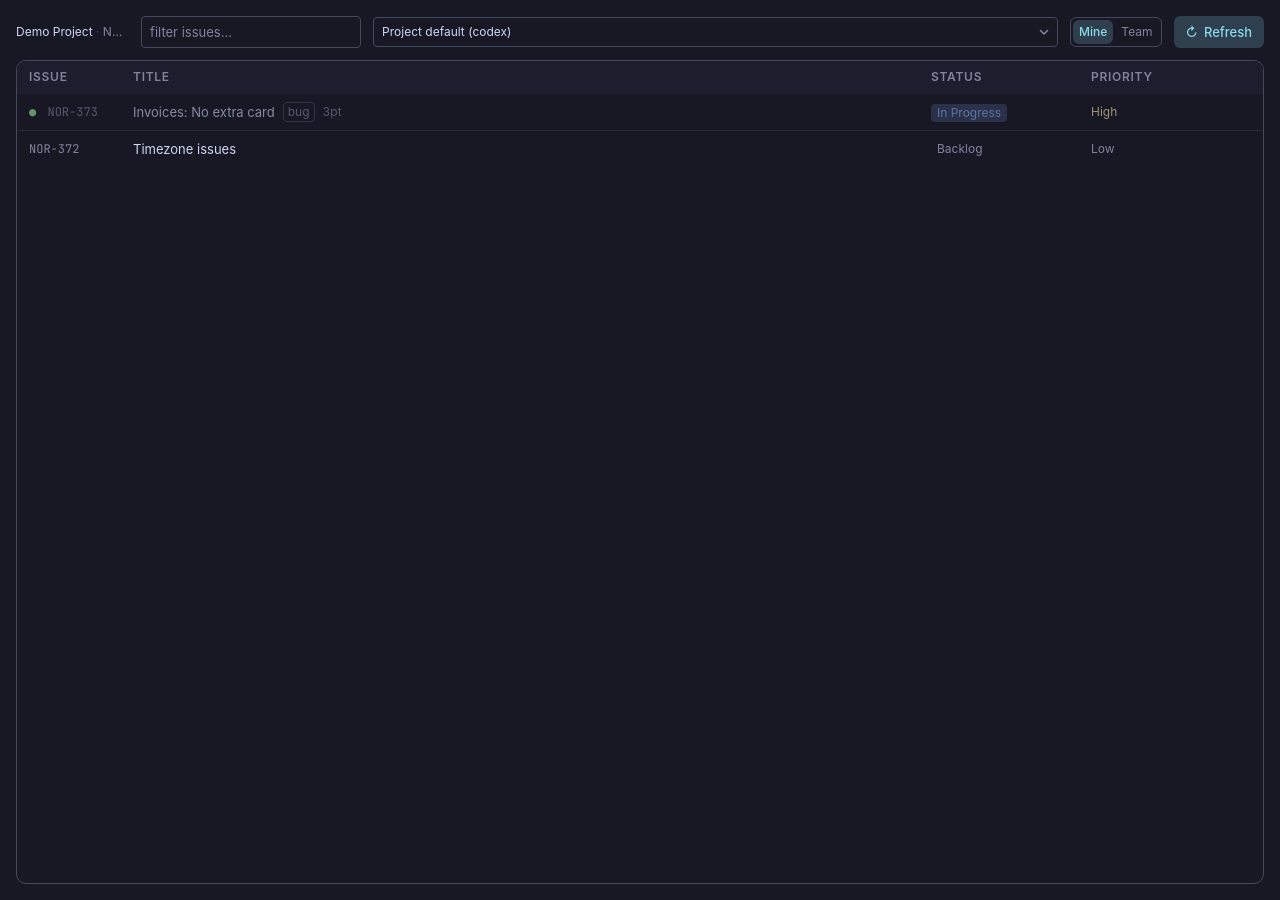
TicketPicker › filters over state, labels and assignee, not just the title
Step 1. Type "backlog" into the field labelled "filter issues" → (251, 32), box [141, 16, 361, 48]
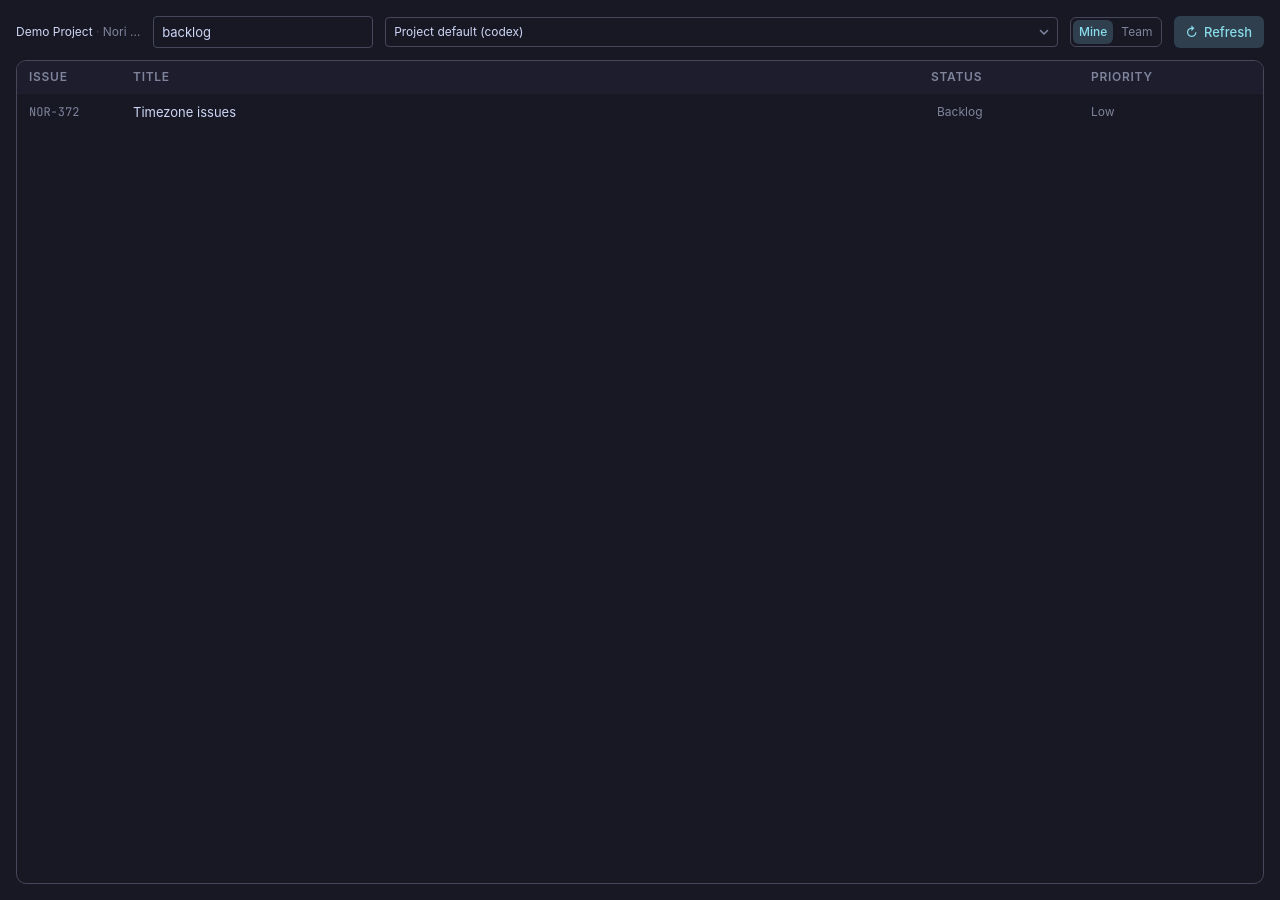
Expected: the text "Timezone issues" is shown, [133, 102, 236, 120]
Now the text "Invoices: No extra card" is gone
Step 2. Replace the text in the field named "filter issues" with "ada" → (263, 32), box [153, 16, 373, 48]
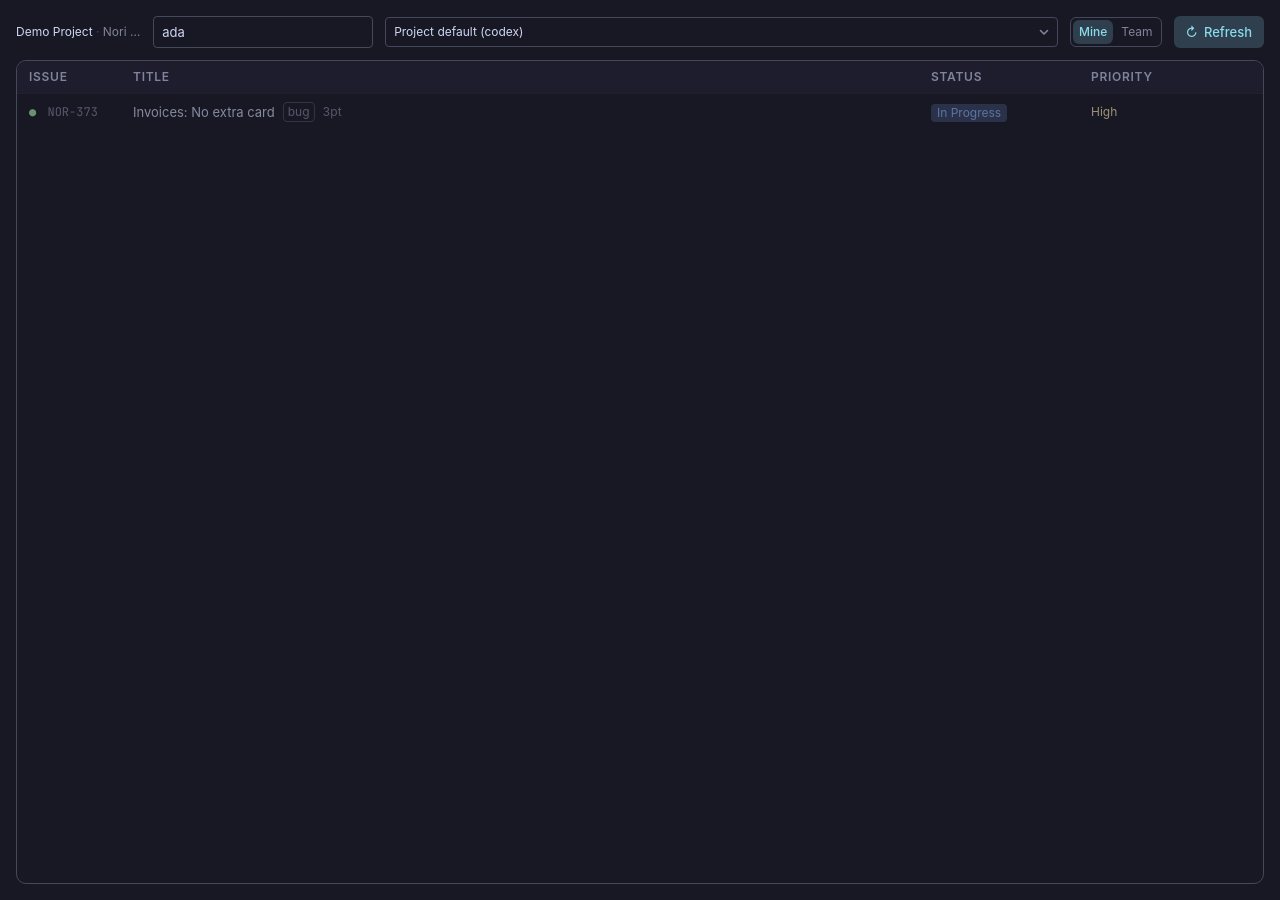
Now the text "Invoices: No extra card" is shown, box [133, 103, 275, 121]
Now the text "Timezone issues" is gone
Step 3. Replace the text in the field named "filter issues" with "nothing here" → (263, 32), box [153, 16, 373, 48]
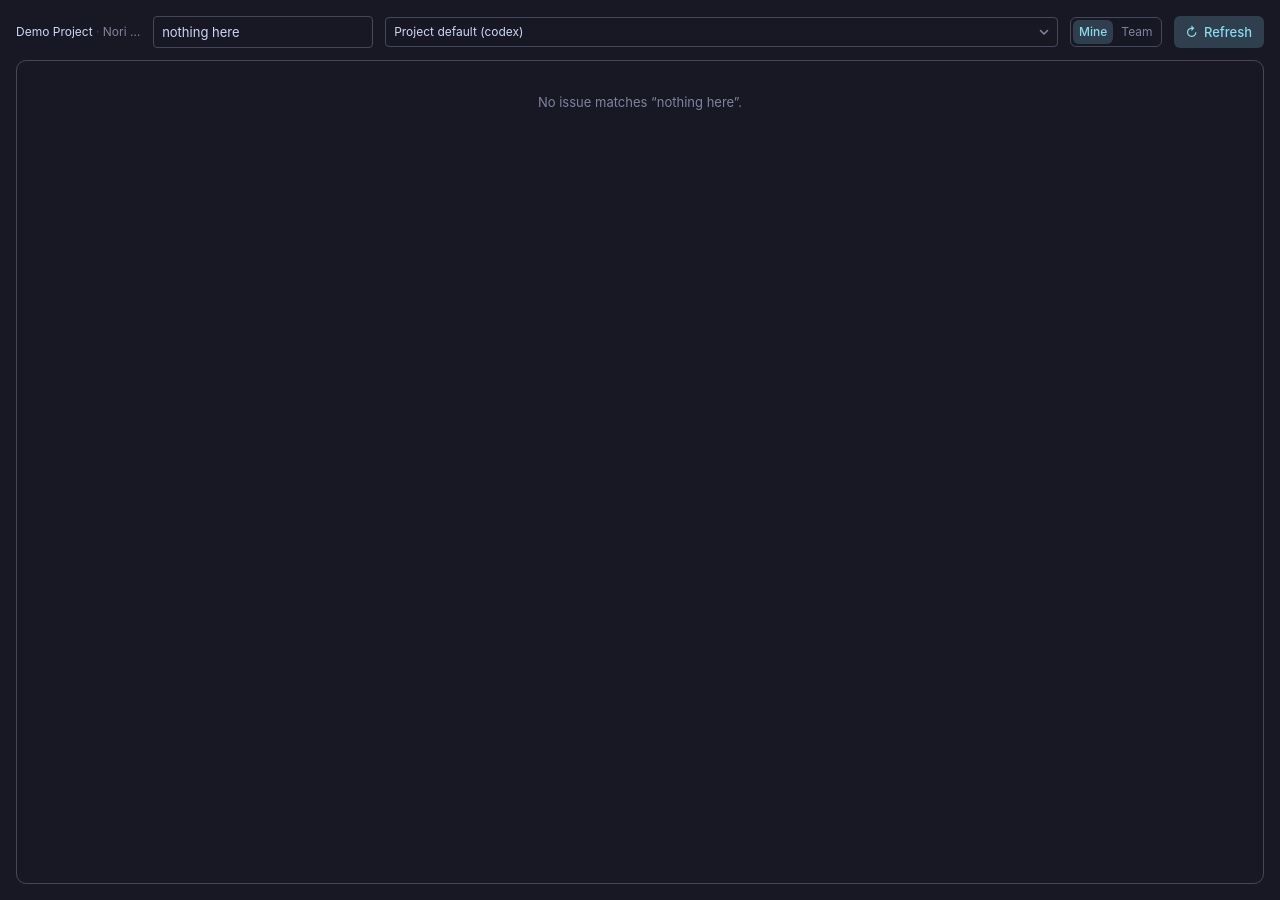
Now the text "No issue matches “nothing here”." is shown, box [538, 94, 742, 110]
